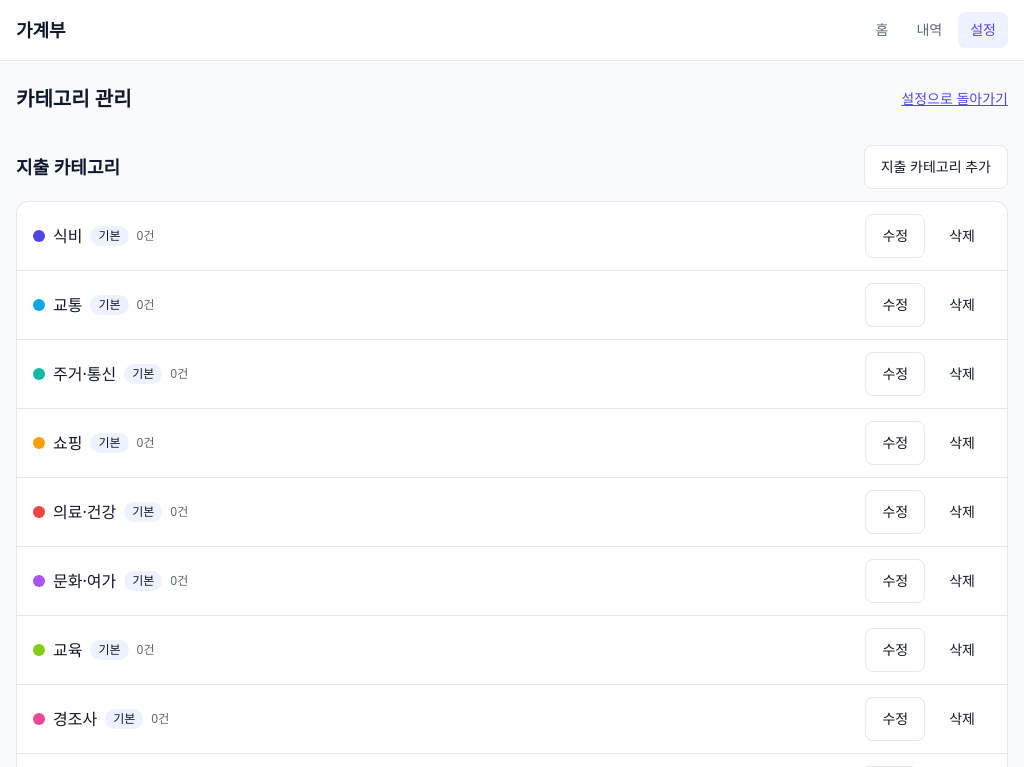
it: 카테고리 추가·수정 › 빈 이름과 같은 유형의 중복 이름은 거부하고 필드에 오류를 표시한다
Expected: the heading "카테고리 관리" is shown, top-left (16, 85), bottom-right (132, 113)
Click the button "지출 카테고리 추가" at (936, 167), box top-left (864, 145), bottom-right (1008, 189)
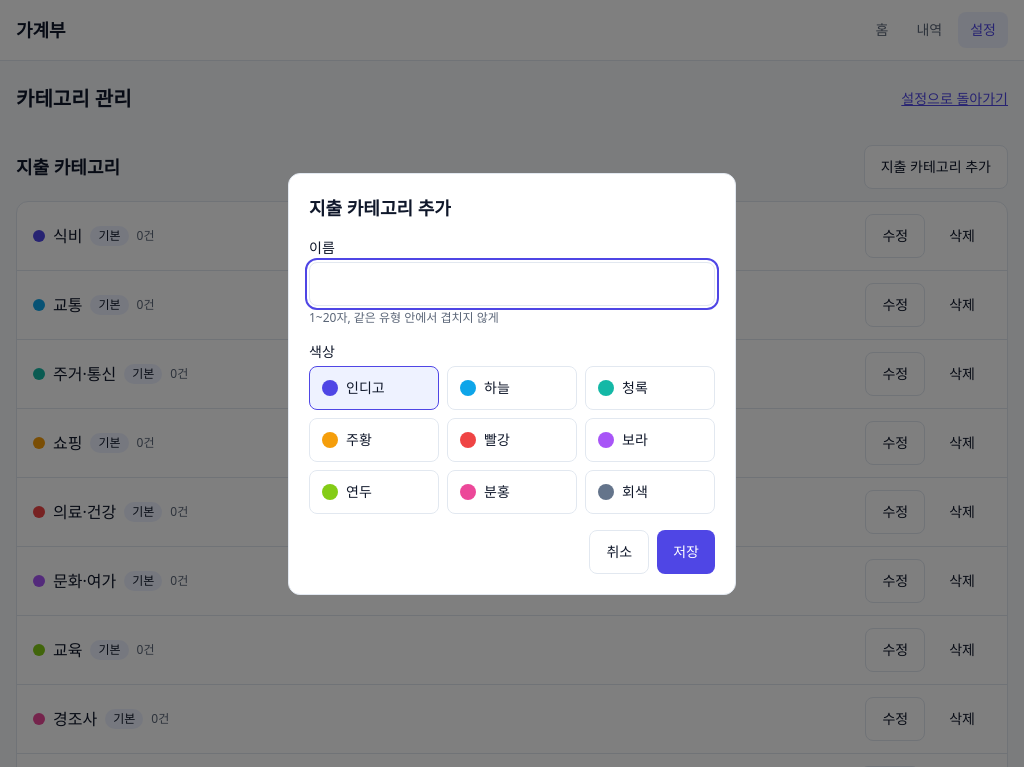
Click the button "저장" at (686, 552), box top-left (657, 530), bottom-right (715, 574)
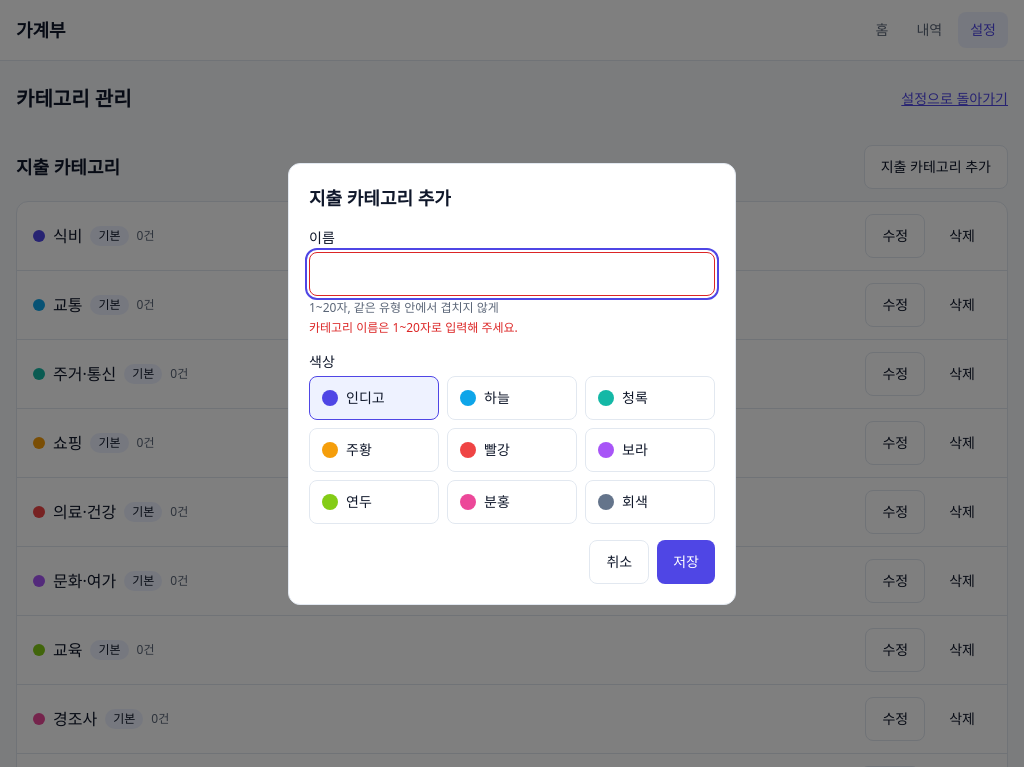
Expected: the message reads "카테고리 이름은 1~20자로 입력해 주세요.", top-left (309, 319), bottom-right (518, 336)
Type "식비" into the field labelled "이름" at (512, 274), box top-left (309, 252), bottom-right (715, 296)
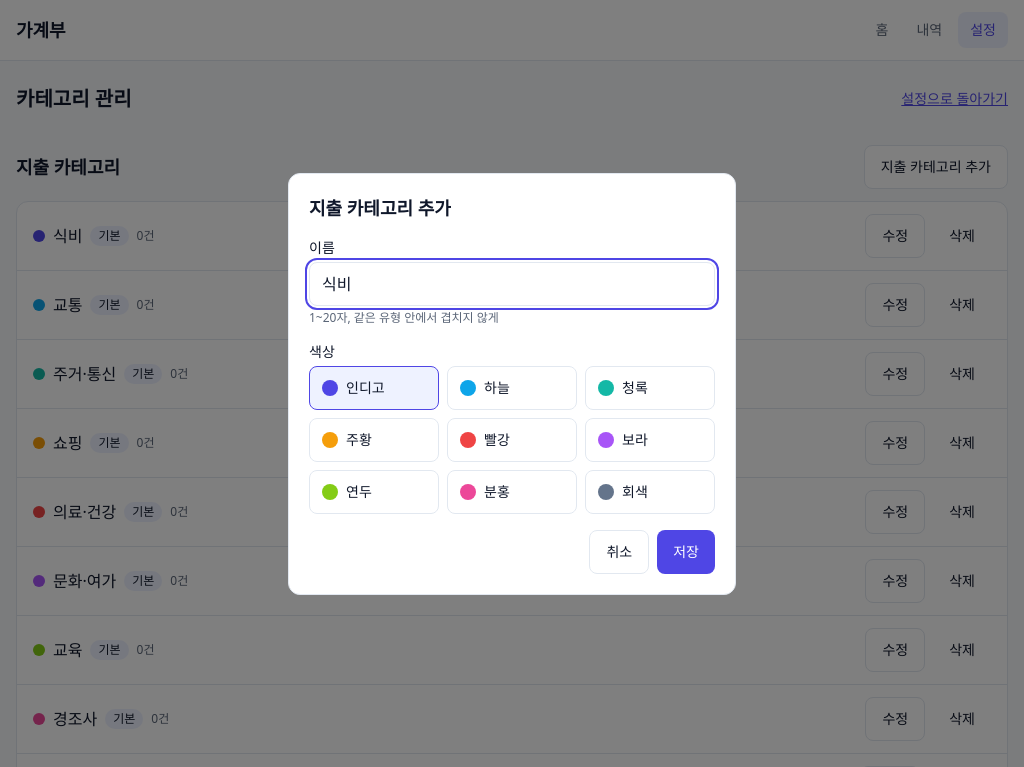
Expected: the message "카테고리 이름은 1~20자로 입력해 주세요." is gone
Click the button "저장" at (686, 552), box top-left (657, 530), bottom-right (715, 574)
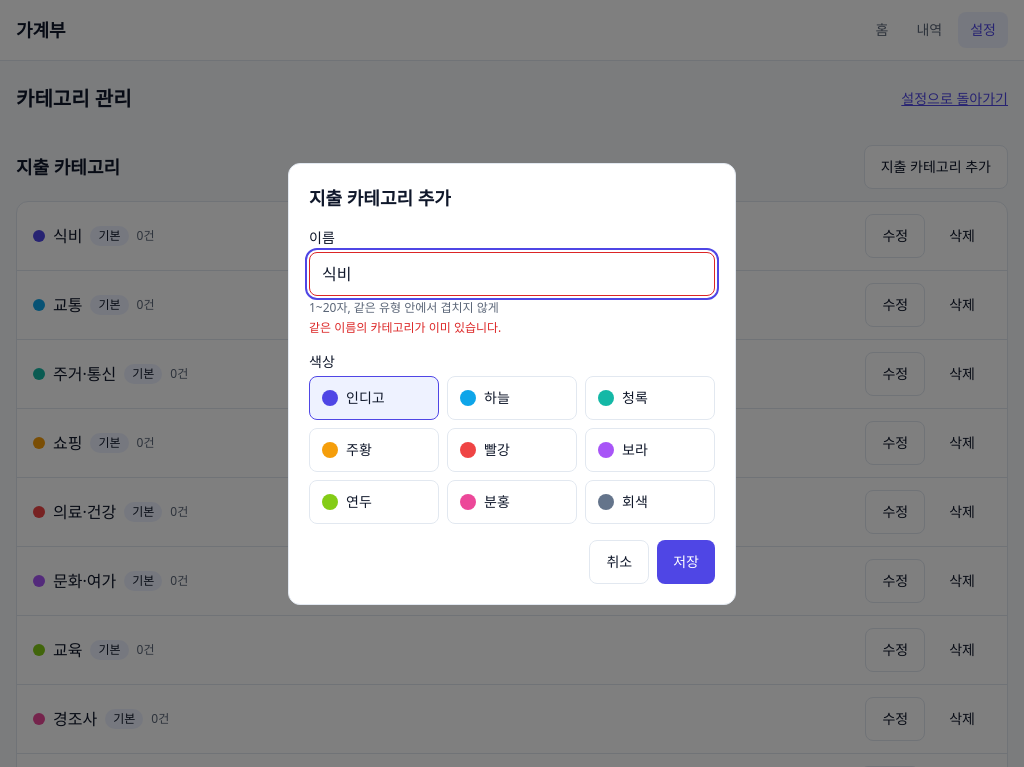
Expected: the dialog "지출 카테고리 추가" is shown, top-left (288, 163), bottom-right (736, 605)
Expected: the message reads "같은 이름의 카테고리가 이미 있습니다.", top-left (309, 319), bottom-right (501, 336)
